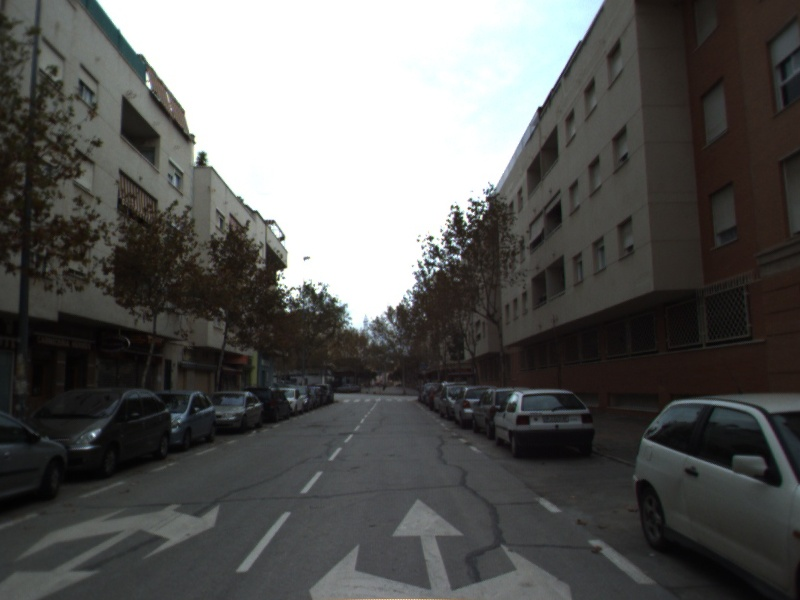STRAIGHT_LEFT_RIGHT: (304, 493, 576, 600)
